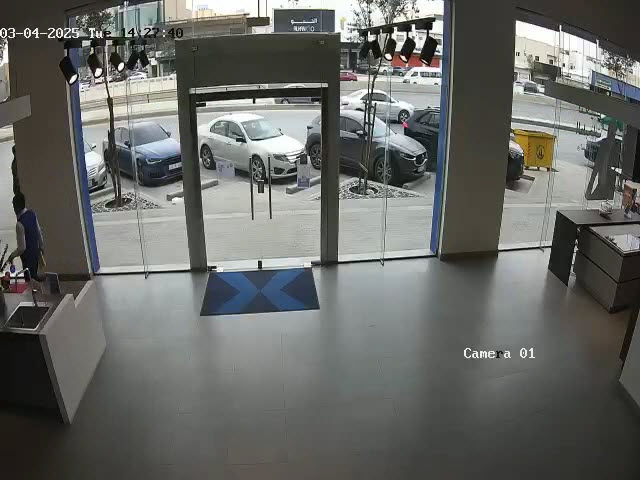employee: (11, 192, 45, 278)
